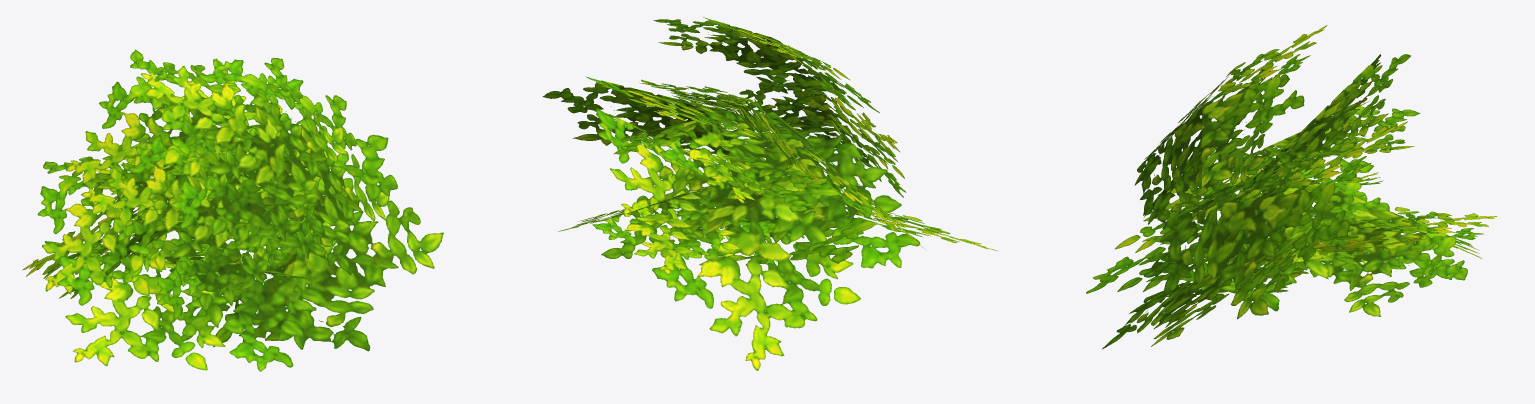
The model's file is hua15.FBX.
3 views of the same model, side by side, from view 1: azimuth 30°, elevation 25°; view 2: azimuth 150°, elevation 25°; view 3: azimuth 270°, elevation 25° (orthographic). The views are drawn at different scales.
Visible parts, largest first — view 1: hua10; view 2: hua10; view 3: hua10.
Boxes of the visible parts, box(x1,y1,x2,y2) form: hua10: box(22, 49, 443, 371); hua10: box(542, 17, 998, 370); hua10: box(1086, 25, 1496, 349).
Size of the model in its own units: 92.44 by 54.89 by 76.46.
